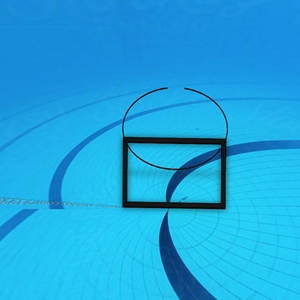circle: (119, 85, 229, 214)
